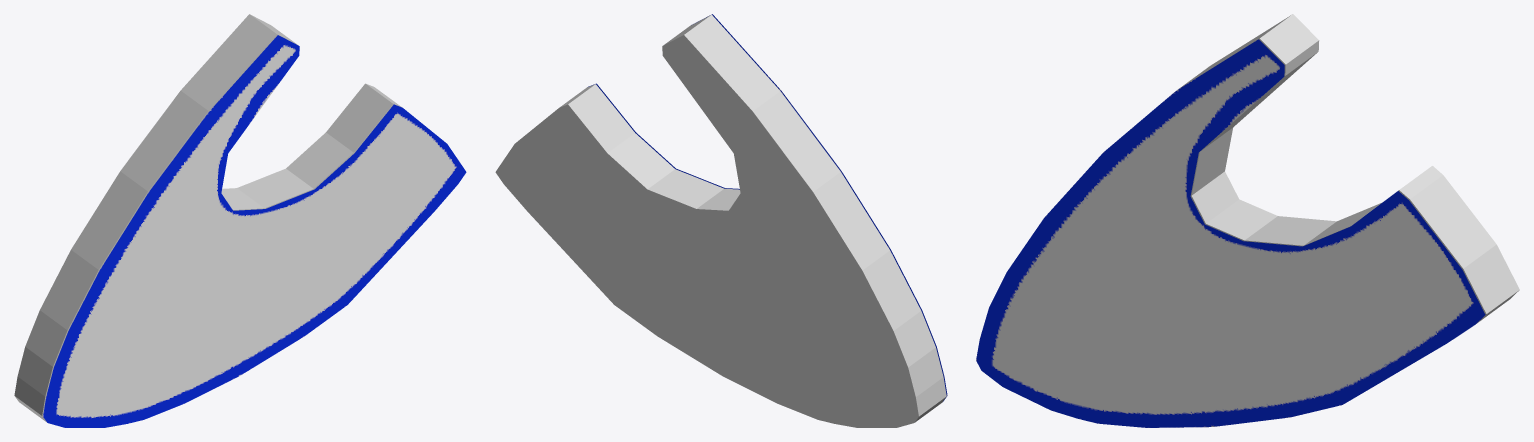
3 views of the same model, side by side, from view 1: azimuth 30°, elevation 25°; view 2: azimuth 150°, elevation 25°; view 3: azimuth 330°, elevation 25° (orthographic). The views are drawn at different scales.
Visible parts, largest first — view 1: In_3_1, In_3_0; view 2: In_3_0, In_3_1; view 3: In_3_1, In_3_0.
Part boxes in pixels (left/top/right/bottom): In_3_1: left=43, top=35, right=466, bottom=427; In_3_0: left=14, top=14, right=401, bottom=422; In_3_0: left=495, top=14, right=946, bottom=427; In_3_1: left=588, top=14, right=947, bottom=401; In_3_1: left=976, top=39, right=1485, bottom=427; In_3_0: left=1178, top=14, right=1519, bottom=323.
Size of the model in its own units: 4.4 by 3.5 by 0.515.
2 materials, 1 textured.
